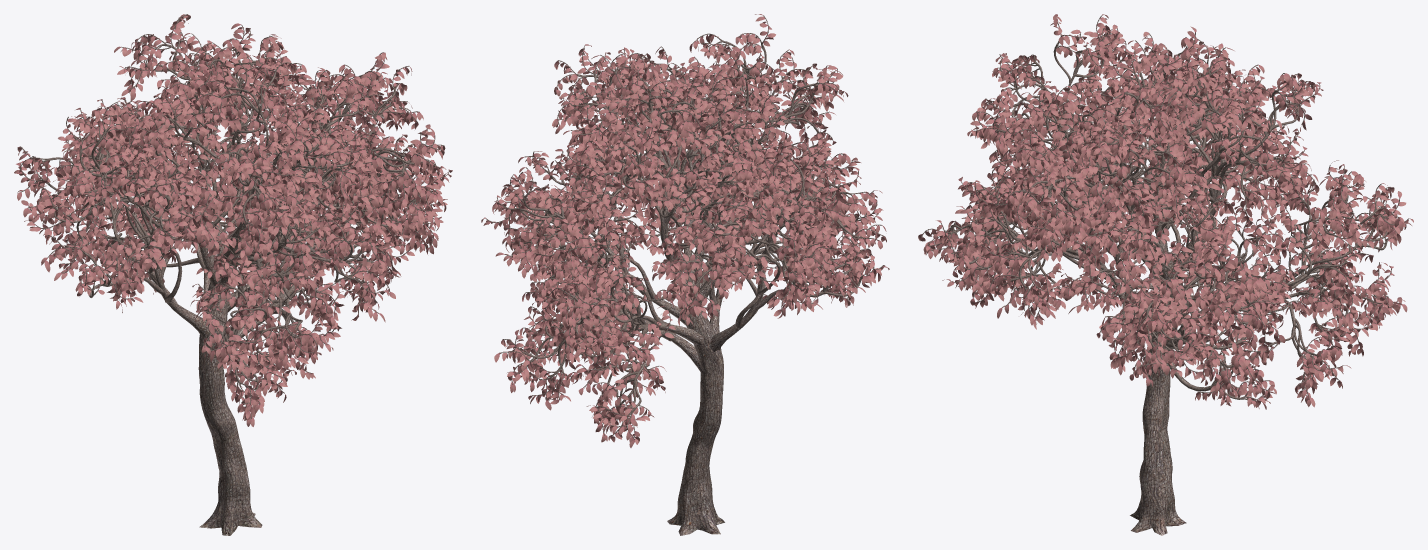
File: tree.gltf
The picture shows the model from 3 angles, left to right: view 1: azimuth 30°, elevation 25°; view 2: azimuth 150°, elevation 25°; view 3: azimuth 270°, elevation 25°; orthographic projection. The views are drawn at different scales.
Parts seen in each view (by area): view 1: acer tree; view 2: acer tree; view 3: acer tree.
Boxes of the visible parts, bbox=[...] form: acer tree: bbox=[14, 14, 452, 535]; acer tree: bbox=[481, 14, 889, 535]; acer tree: bbox=[918, 14, 1413, 535].
Size of the model in its own units: 8.49 by 10.56 by 9.5.
Materials: 2 (2 with a texture image).
